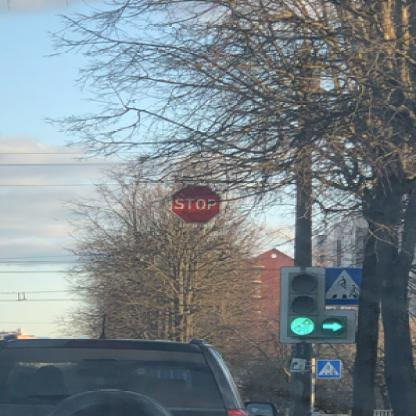crosswalk: (325, 267, 366, 306), (315, 356, 340, 378)
stop: (169, 185, 219, 224)
trafficlight: (284, 270, 347, 337)
